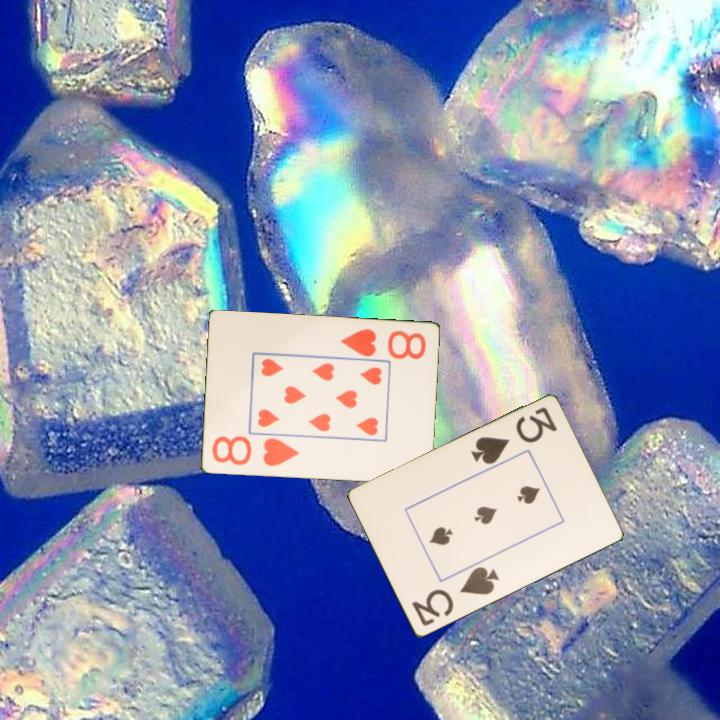3s: (408, 563, 502, 629), (467, 404, 560, 468)
8h: (337, 326, 429, 363), (208, 433, 302, 469)
